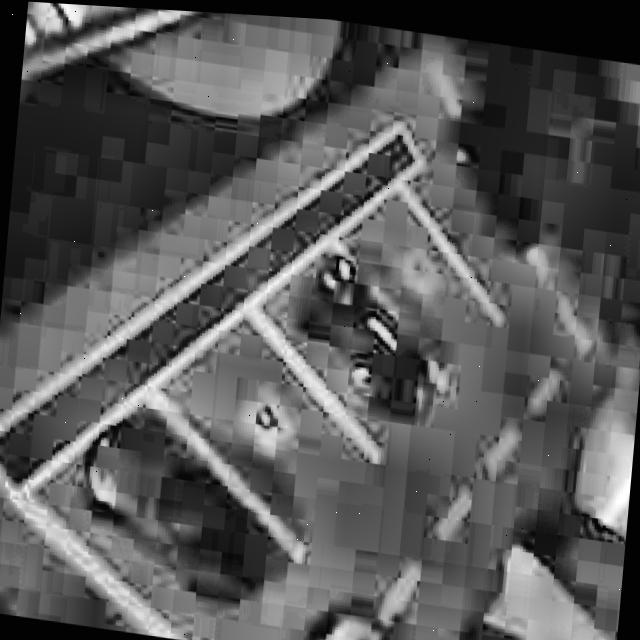car: (65, 409, 290, 625), (273, 234, 466, 436), (270, 587, 413, 640)
